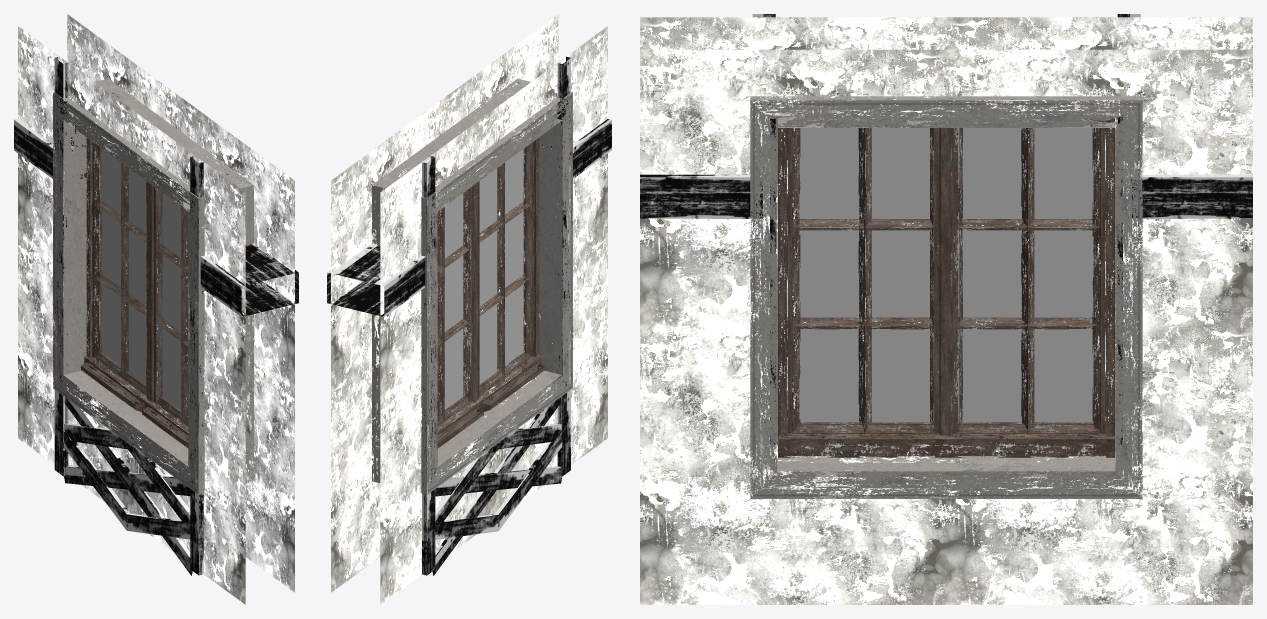
File: SM_wall_A_window_4x4_04_02.fbx
3 renders of one model, left to right at view 1: azimuth 30°, elevation 25°; view 2: azimuth 150°, elevation 25°; view 3: azimuth 270°, elevation 25°, orthographic. The views are drawn at different scales.
Visible parts, largest first — view 1: SM_wall_A_window_4x4_04_02_LOD0; view 2: SM_wall_A_window_4x4_04_02_LOD0; view 3: SM_wall_A_window_4x4_04_02_LOD0.
Boxes of the visible parts, bbox=[...] form: SM_wall_A_window_4x4_04_02_LOD0: bbox=[14, 14, 298, 604]; SM_wall_A_window_4x4_04_02_LOD0: bbox=[327, 14, 611, 604]; SM_wall_A_window_4x4_04_02_LOD0: bbox=[640, 14, 1252, 604].
Size of the model in its own units: 62.17 by 400 by 408.
7 materials, 6 textured.
